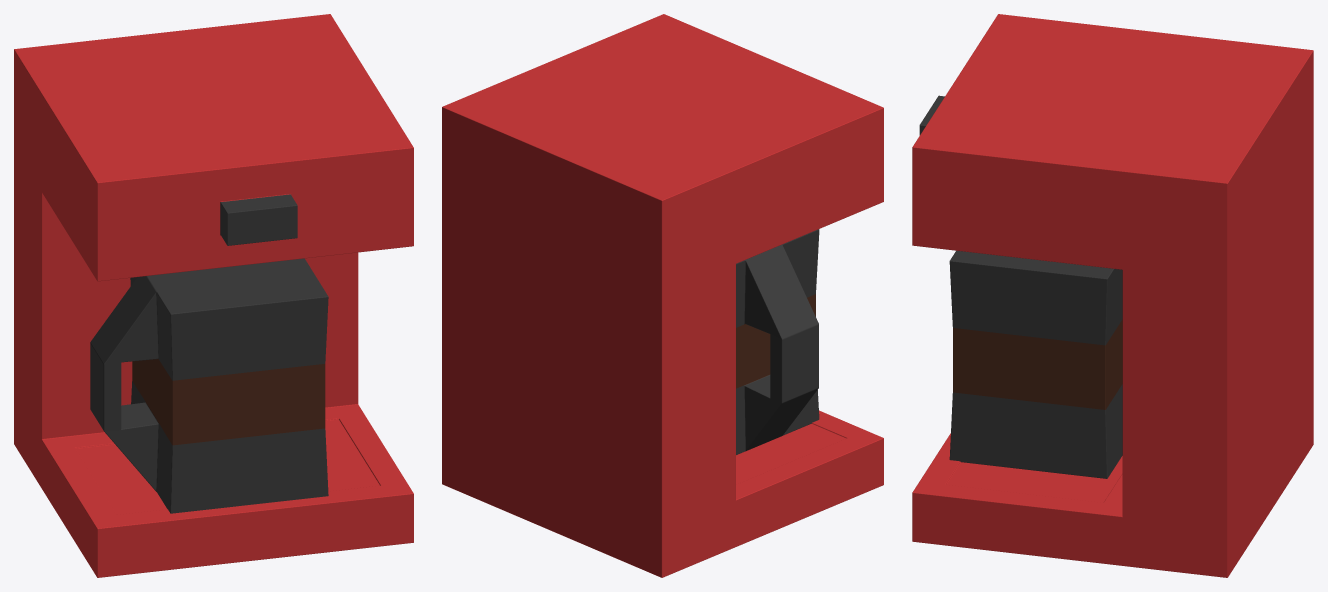
Rendered from Kaffemaschine.fbx.
3 renders of one model, left to right at view 1: azimuth 30°, elevation 25°; view 2: azimuth 150°, elevation 25°; view 3: azimuth 270°, elevation 25°, orthographic. The views are drawn at different scales.
Parts seen in each view (by area): view 1: Kaffeemaschine, Kanne; view 2: Kaffeemaschine, Kanne; view 3: Kaffeemaschine, Kanne.
Part boxes in pixels (box(x1,y1,x2,y2)): Kaffeemaschine: box(14, 14, 413, 577); Kanne: box(90, 258, 328, 513); Kaffeemaschine: box(442, 14, 883, 577); Kanne: box(736, 229, 819, 454); Kaffeemaschine: box(912, 14, 1313, 577); Kanne: box(949, 250, 1122, 478).
Size of the model in its own units: 36.85 by 40 by 36.85.
